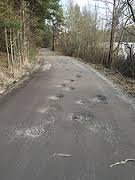pothole: (24, 124, 60, 138), (83, 93, 115, 103), (47, 93, 71, 103), (62, 79, 76, 84), (63, 87, 75, 92)
